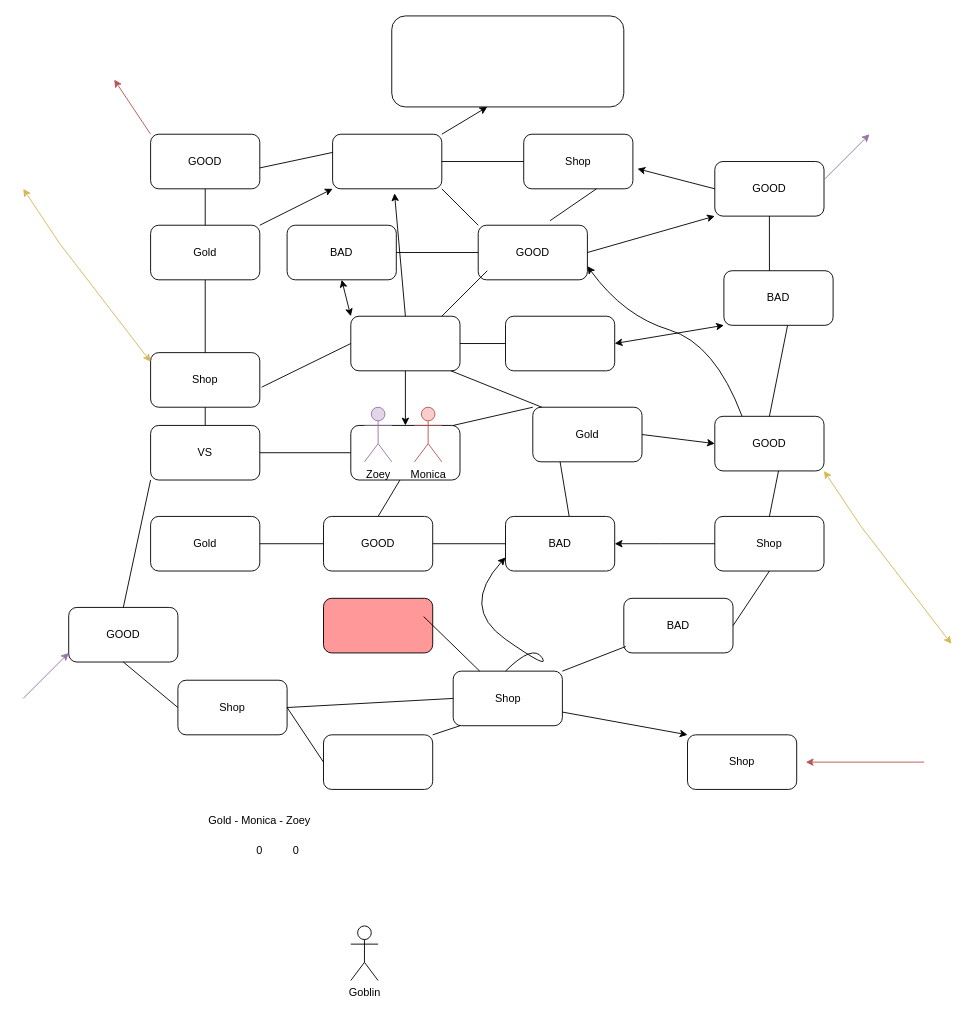
Image size: 976x1016. Some labels were removed from this diagram. Each missing label, with the centre of its shape:
"Abyss" belongs at pixel 507 61.
"DIY-HRT" belongs at pixel 378 625.
"PVP" belongs at pixel 560 343.
"Start/Gold" belongs at pixel 405 343.
